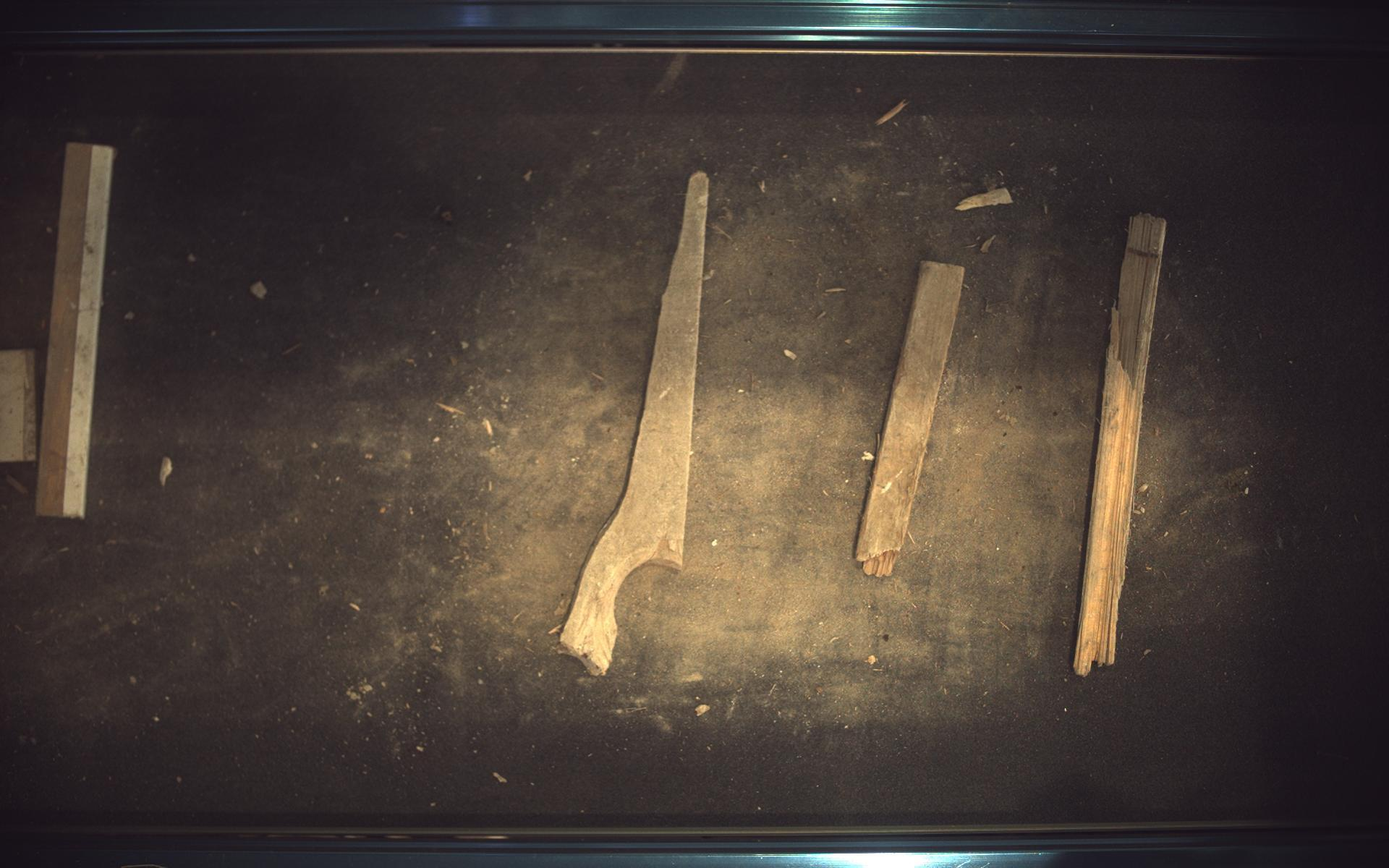wood: (561, 171, 710, 676), (1076, 213, 1169, 677), (857, 260, 967, 577), (35, 142, 113, 518), (1, 349, 35, 462)
